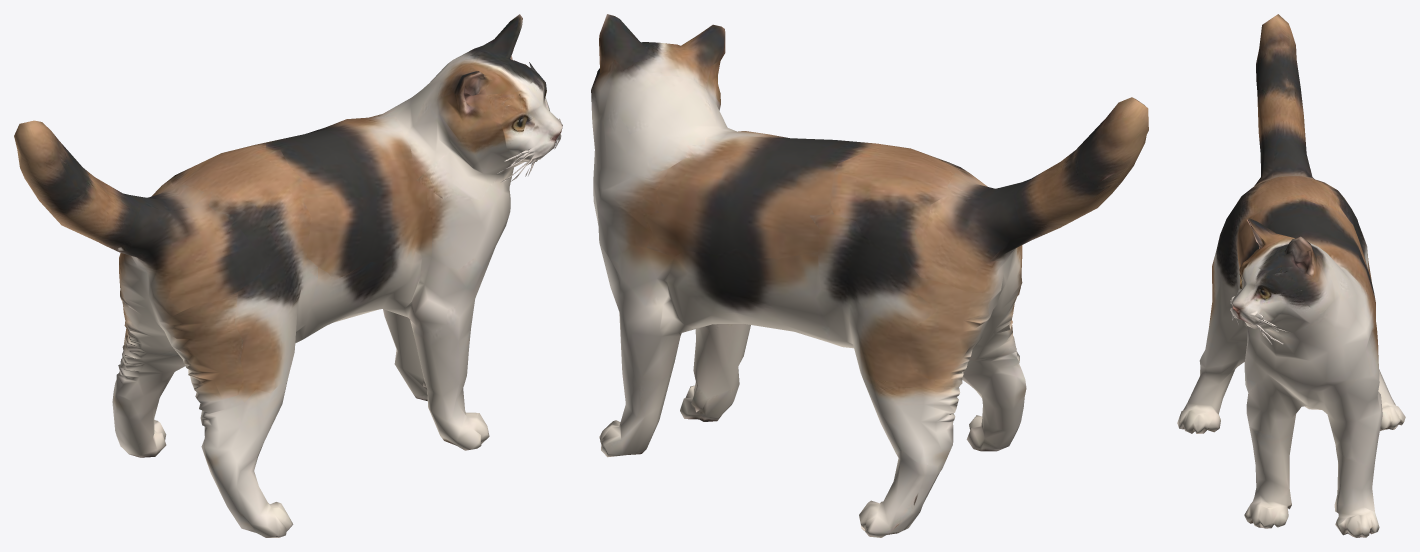
Rendered from BOXWOOD-lo.glb.
3 renders of one model, left to right at view 1: azimuth 30°, elevation 25°; view 2: azimuth 150°, elevation 25°; view 3: azimuth 270°, elevation 25°, orthographic. The views are drawn at different scales.
Parts seen in each view (by area): view 1: tripo_node_15157314-69e4-4635-9af3-3aa8a68cd3ca; view 2: tripo_node_15157314-69e4-4635-9af3-3aa8a68cd3ca; view 3: tripo_node_15157314-69e4-4635-9af3-3aa8a68cd3ca.
Part boxes in pixels (x1,y1,x2,y2): tripo_node_15157314-69e4-4635-9af3-3aa8a68cd3ca: [14, 14, 562, 537]; tripo_node_15157314-69e4-4635-9af3-3aa8a68cd3ca: [591, 14, 1148, 537]; tripo_node_15157314-69e4-4635-9af3-3aa8a68cd3ca: [1177, 14, 1405, 537].
Size of the model in its own units: 1.34 by 0.9974 by 0.6088.
1 material, 1 textured.
